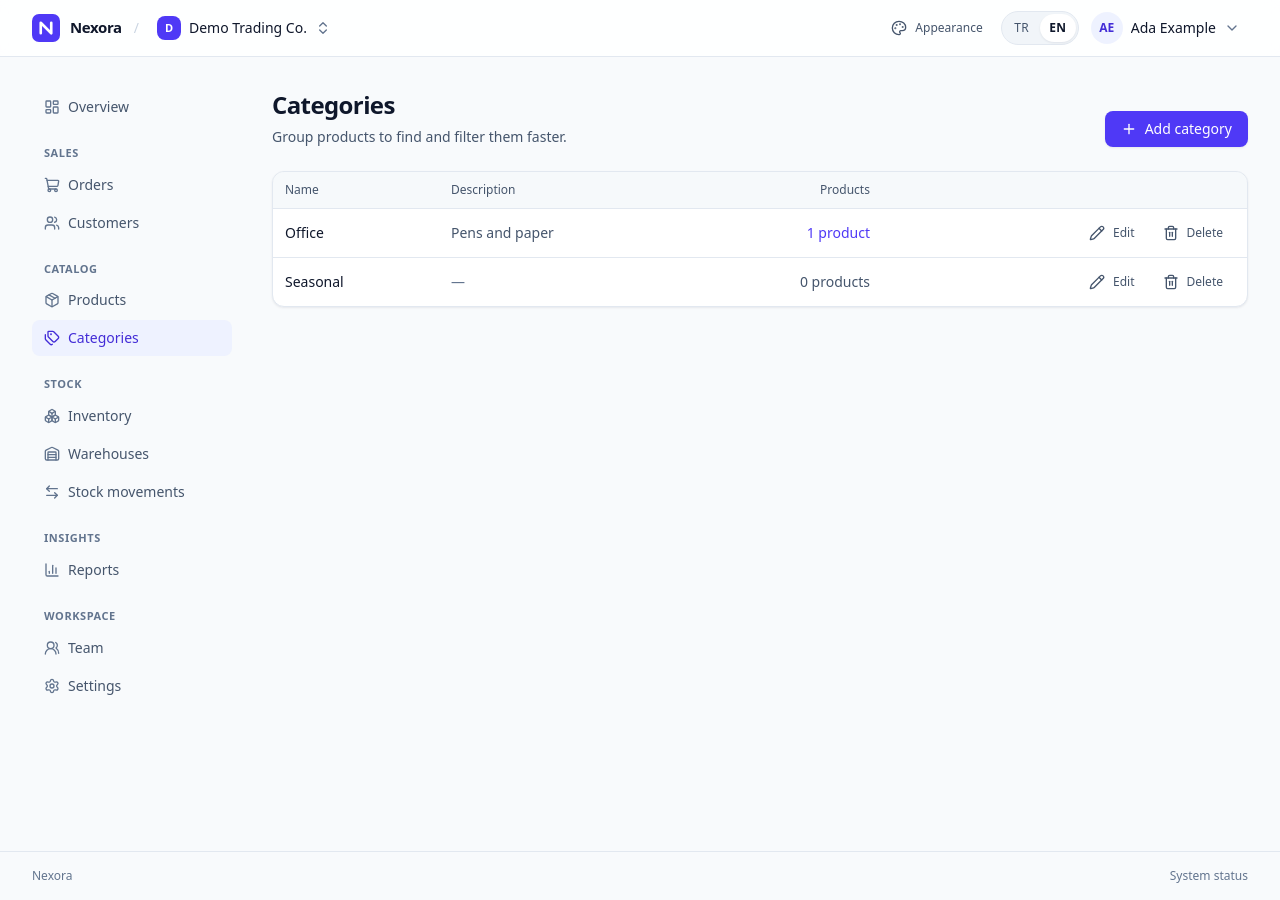
CategoriesPage › deletes an unused category after confirmation
Expected: the heading "Categories" is shown, [272,88,395,121]
Click the button with aria-label "Delete Seasonal" at (1193, 282), box [1150,266,1235,298]
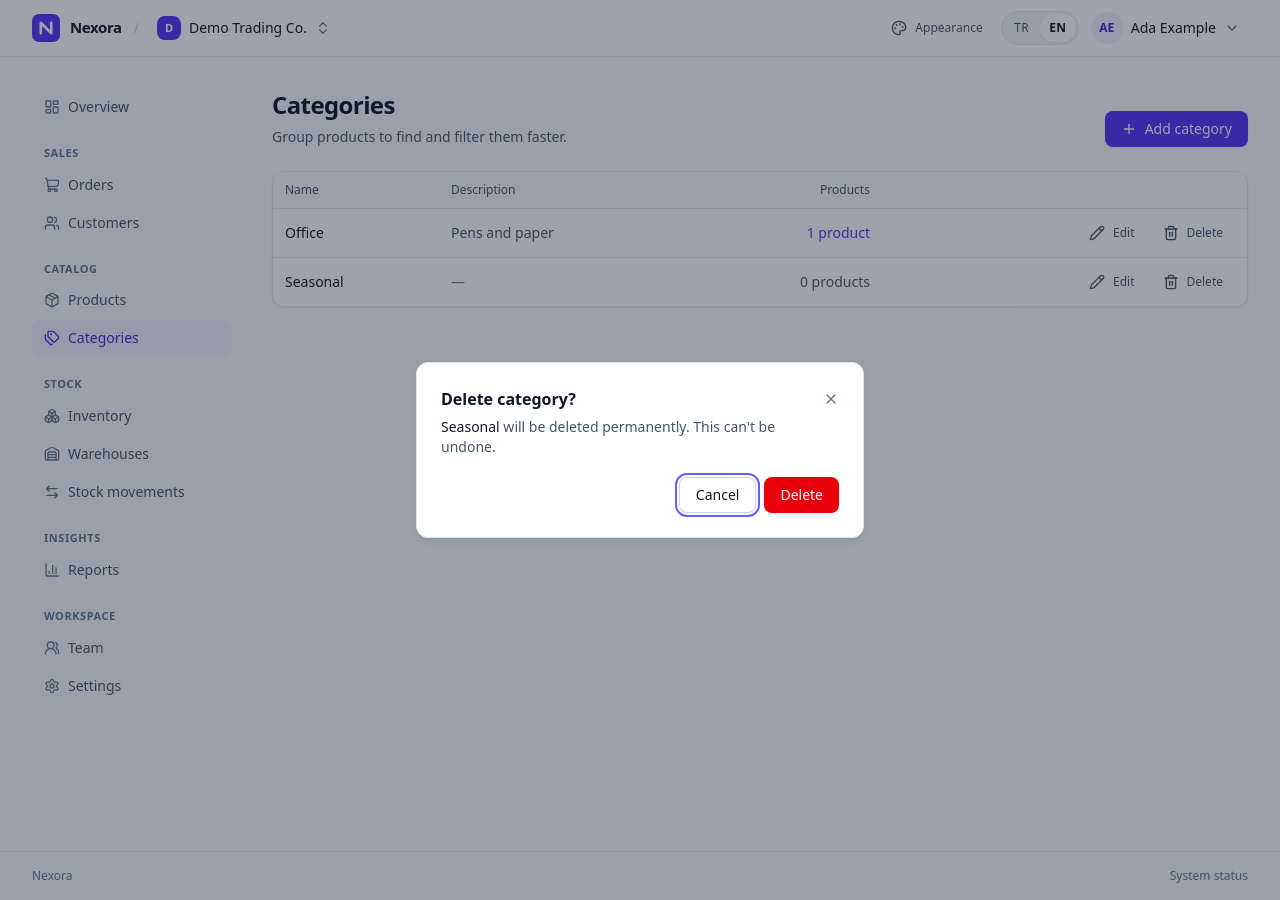
Click the button "Delete" at (802, 495), box [764,477,839,513]
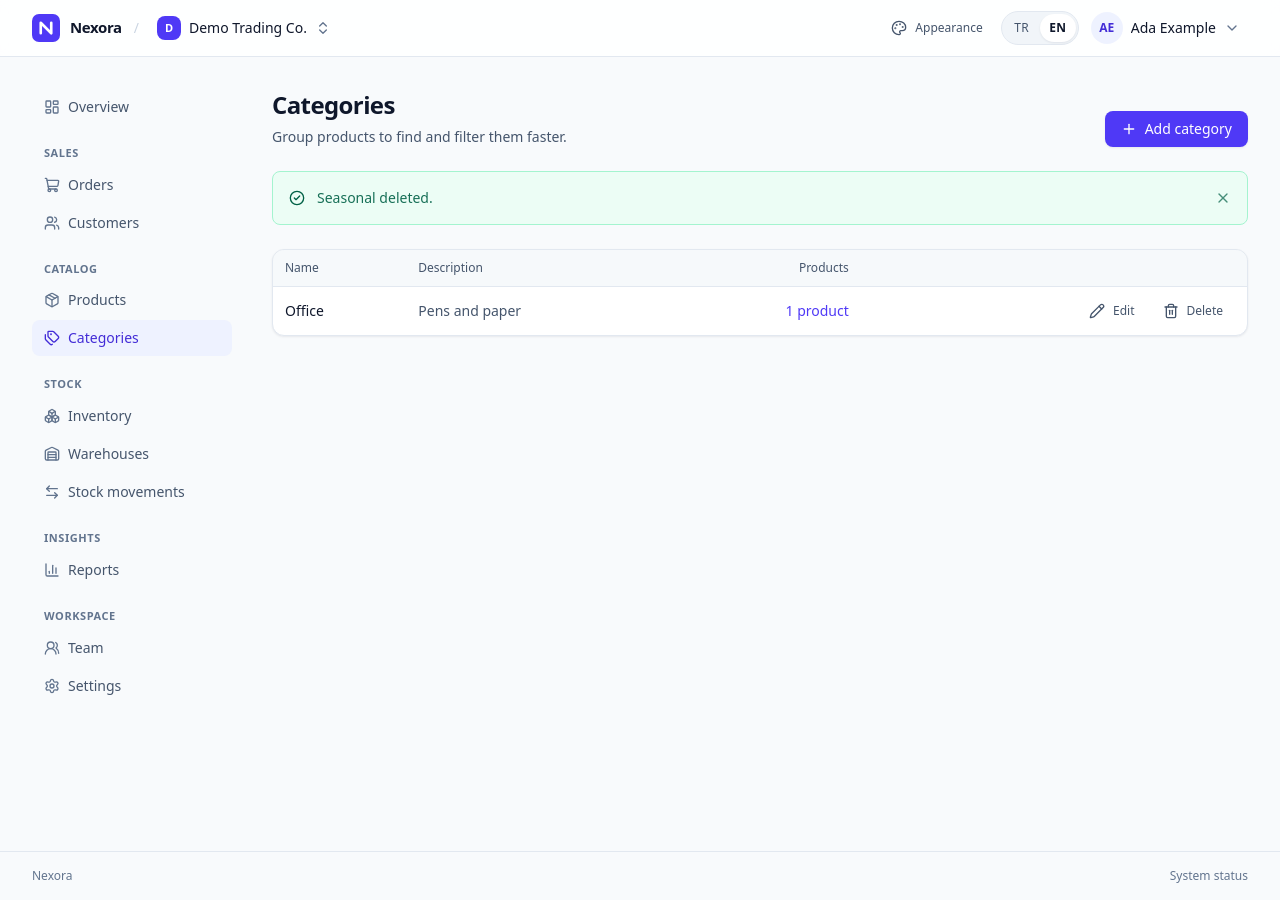
Expected: the text "Seasonal deleted." is shown, [317,188,433,207]
